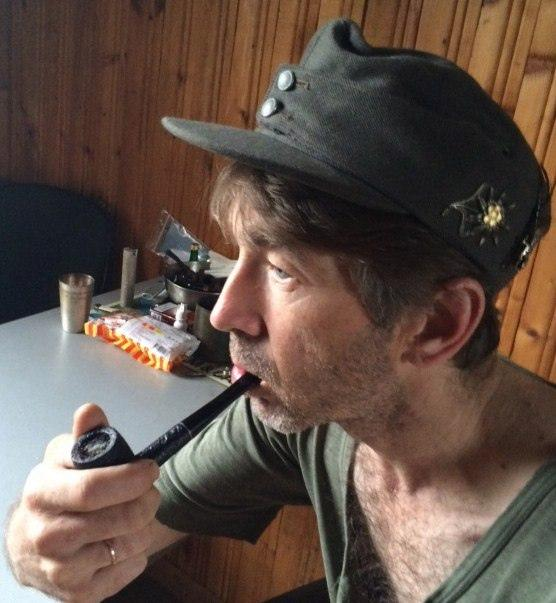trubka: (71, 375, 258, 469)
